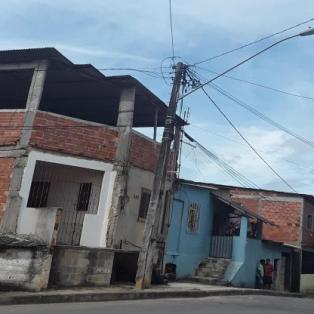Poste: (129, 56, 199, 288)
